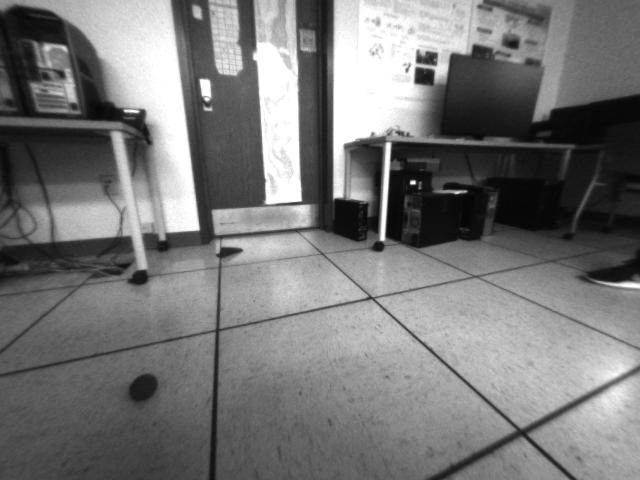dogtoy: (120, 364, 167, 410)
